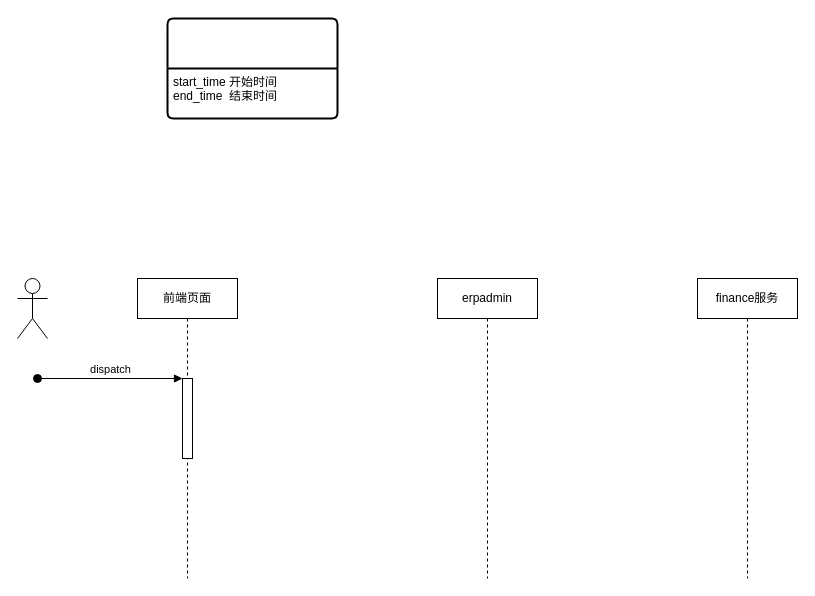
Image size: 815x596. Some labels were removed from this diagram. The shapes that lost their labels are listed below. From the top down, each one's box as (x1, y1, x2, y2) in pixels, then its label:
(166, 17, 338, 119): hedge_config
(16, 278, 48, 338): Actor
